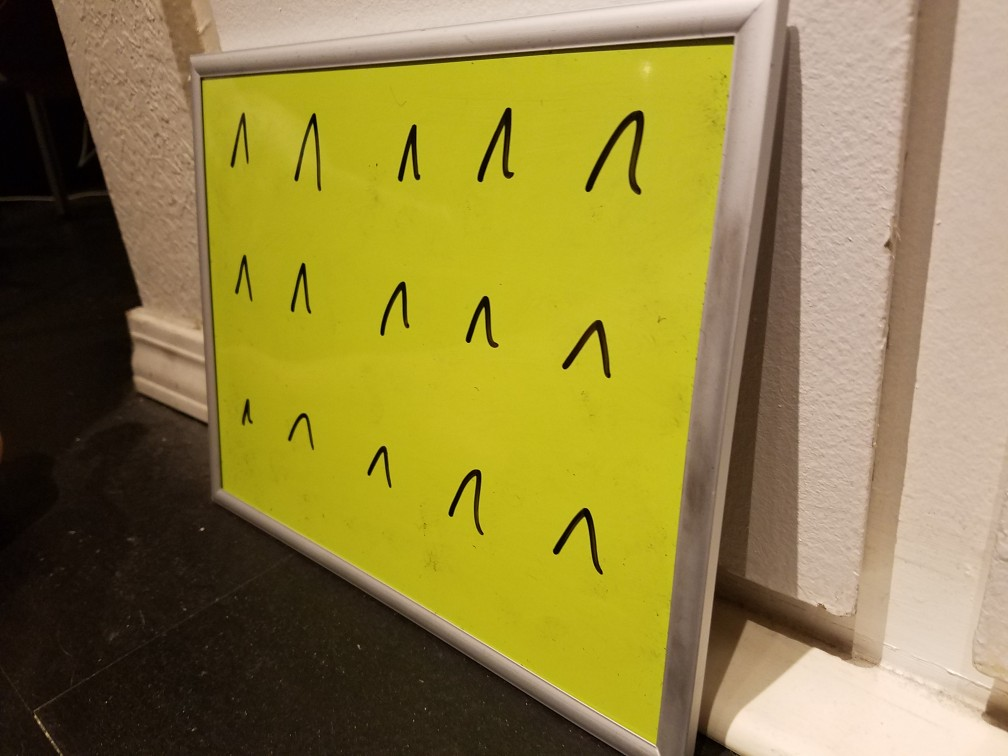^: (575, 92, 671, 215), (548, 300, 645, 411), (530, 481, 617, 589), (458, 85, 529, 197), (450, 277, 521, 371), (274, 105, 342, 197), (354, 266, 422, 353), (352, 428, 411, 518), (440, 448, 494, 540), (277, 251, 327, 336), (383, 112, 435, 193), (275, 395, 322, 468), (222, 107, 258, 183), (223, 236, 258, 309), (236, 381, 259, 436)
